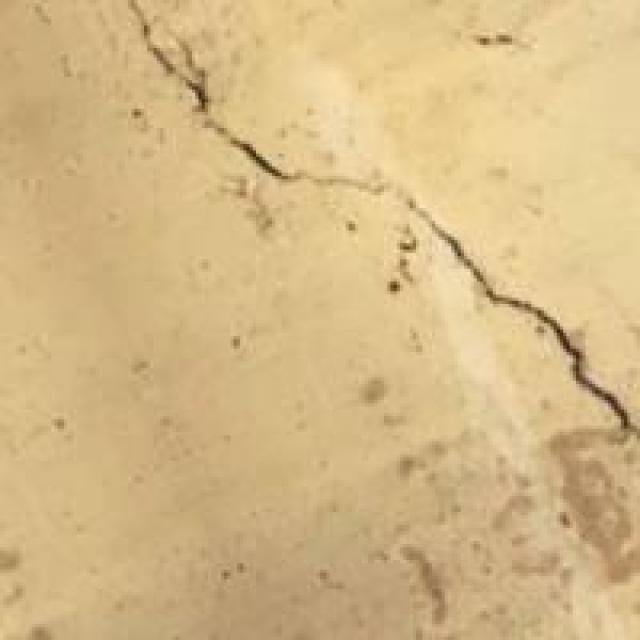crack: (121, 3, 636, 512)
